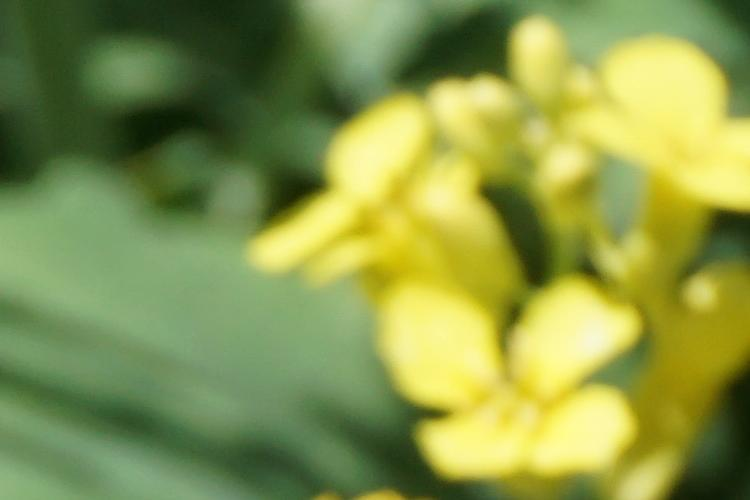yellow: (379, 274, 643, 465), (271, 113, 521, 296), (608, 239, 740, 500), (597, 41, 746, 268), (465, 40, 606, 218)
